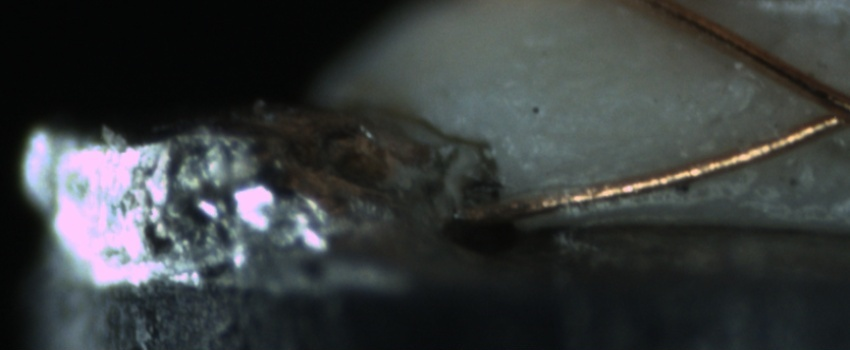CL: (795, 78, 850, 141)
